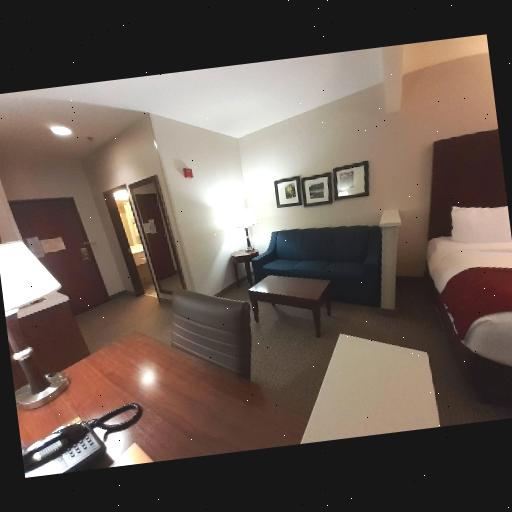clean_bed: (429, 129, 512, 401)
lamp: (0, 221, 86, 412), (230, 204, 260, 254)
organised_pillow: (443, 203, 512, 251)
organized table: (17, 328, 312, 480), (248, 272, 331, 339)
